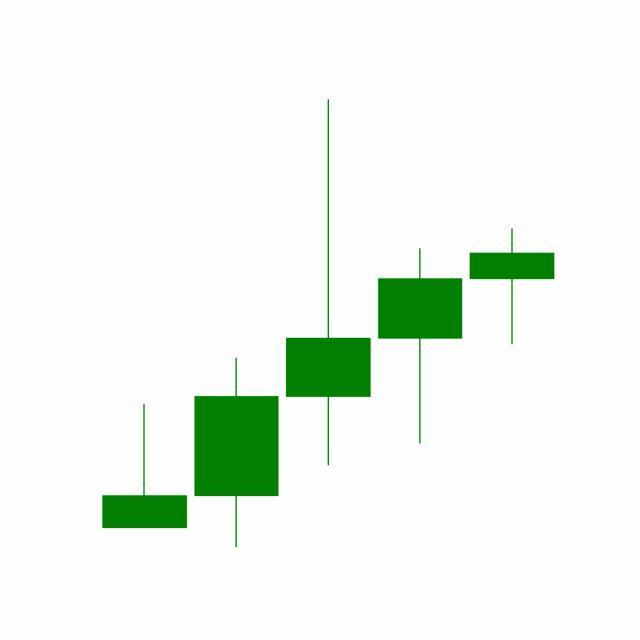Hanging Man: (466, 228, 559, 347)
